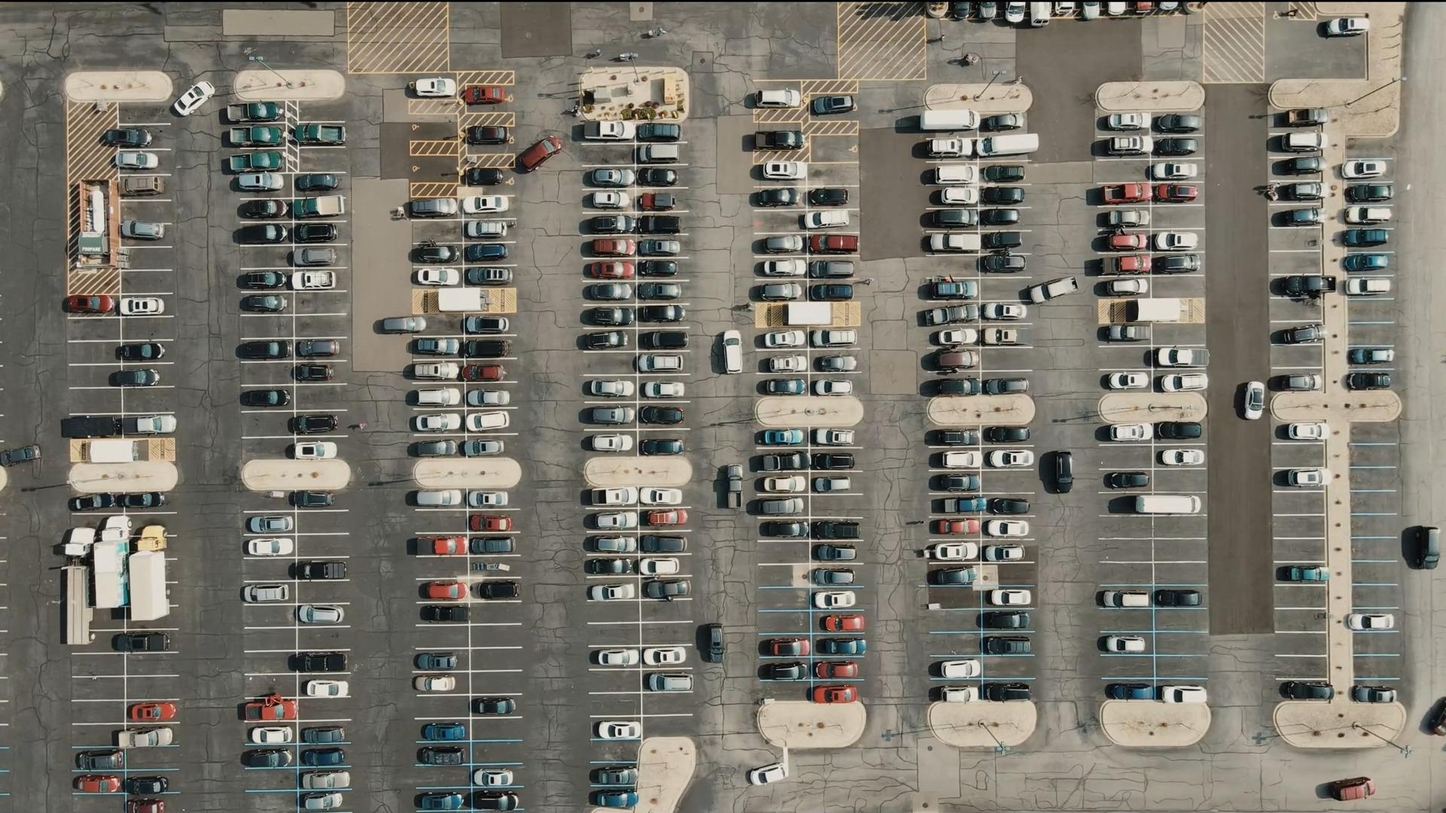free: (1098, 563, 1163, 594), (1343, 468, 1417, 489), (1271, 515, 1337, 538), (650, 713, 716, 736), (237, 630, 303, 653), (305, 704, 371, 727), (1098, 537, 1164, 560), (1156, 630, 1222, 653), (750, 565, 813, 589), (1340, 444, 1405, 467), (1352, 493, 1417, 516), (1354, 637, 1419, 660), (1275, 493, 1340, 516), (581, 602, 646, 625), (584, 671, 649, 694), (586, 693, 651, 716), (648, 691, 713, 714), (752, 588, 817, 611), (767, 603, 832, 626), (753, 543, 818, 566), (64, 679, 129, 702), (239, 676, 304, 699), (302, 623, 367, 646), (472, 671, 537, 694), (292, 288, 357, 311), (807, 159, 872, 182), (1150, 539, 1215, 562), (1138, 651, 1203, 674), (1275, 587, 1340, 610), (1261, 631, 1326, 654), (572, 349, 638, 371), (1351, 657, 1417, 679), (1347, 549, 1413, 571), (646, 618, 712, 640), (64, 701, 130, 723), (468, 652, 534, 674), (1098, 656, 1164, 678), (1344, 421, 1409, 443), (1355, 523, 1420, 545), (1278, 538, 1343, 560), (580, 621, 645, 643), (653, 595, 718, 617), (239, 610, 304, 632), (62, 654, 127, 676), (240, 648, 305, 670), (460, 598, 525, 620), (470, 628, 535, 650), (1155, 567, 1220, 589), (1096, 611, 1161, 633), (1262, 658, 1327, 680), (1160, 469, 1225, 491), (1360, 572, 1425, 594)
occupied: (515, 135, 564, 173), (1404, 525, 1442, 569), (171, 81, 215, 117), (1024, 276, 1075, 304), (980, 133, 1038, 157), (244, 696, 296, 722), (1135, 495, 1200, 515), (61, 416, 119, 438), (1045, 450, 1074, 493), (920, 108, 975, 130), (291, 652, 346, 673), (1278, 275, 1333, 296), (293, 123, 345, 145), (229, 126, 283, 147), (296, 195, 346, 217), (229, 102, 283, 122), (225, 153, 279, 173), (1280, 681, 1334, 701), (113, 633, 169, 652), (583, 121, 633, 142), (242, 749, 294, 769), (720, 329, 743, 374), (63, 295, 114, 315), (416, 791, 467, 811), (1322, 16, 1370, 37), (461, 194, 509, 215), (129, 701, 177, 722), (61, 527, 97, 555), (748, 761, 788, 786), (76, 750, 123, 771), (1104, 183, 1151, 204), (133, 524, 167, 553), (0, 444, 41, 468), (983, 683, 1032, 703), (760, 662, 809, 682), (296, 562, 347, 581), (927, 137, 973, 158), (474, 790, 520, 811), (1342, 159, 1390, 179), (418, 745, 466, 765), (1242, 380, 1266, 420), (302, 770, 350, 790), (409, 198, 459, 217), (238, 341, 288, 360), (927, 233, 977, 252), (756, 87, 801, 108), (105, 128, 152, 148), (413, 244, 460, 264), (242, 583, 289, 603), (761, 637, 808, 657), (1280, 325, 1329, 344), (241, 200, 287, 220), (128, 728, 174, 748), (811, 684, 857, 704), (111, 369, 162, 387), (1106, 683, 1157, 701), (756, 130, 804, 149), (1346, 184, 1394, 203), (117, 343, 165, 362), (1276, 182, 1324, 201), (1160, 373, 1208, 392), (73, 774, 121, 793), (413, 77, 456, 98), (812, 95, 855, 116), (1282, 130, 1325, 151), (466, 411, 509, 432), (1347, 371, 1392, 391), (124, 775, 169, 795), (72, 493, 122, 511), (1277, 156, 1324, 175), (291, 414, 338, 433), (241, 294, 288, 313), (297, 605, 344, 624), (591, 790, 638, 809), (240, 389, 289, 407), (1106, 136, 1150, 156), (1344, 253, 1390, 272), (1162, 685, 1208, 704), (248, 726, 294, 745), (592, 767, 638, 786), (295, 173, 343, 191), (1345, 206, 1393, 224), (1101, 590, 1149, 608), (240, 271, 288, 289), (98, 516, 134, 540), (121, 219, 164, 239), (121, 175, 164, 195), (643, 646, 686, 666), (300, 791, 343, 811), (702, 624, 724, 663), (637, 122, 682, 141), (293, 223, 338, 242), (595, 721, 640, 740), (422, 723, 467, 742), (1346, 277, 1391, 296), (302, 748, 347, 767), (936, 660, 981, 679), (1280, 565, 1330, 582), (1156, 114, 1203, 132), (1344, 228, 1391, 246), (1154, 255, 1201, 273), (135, 414, 177, 434), (1106, 112, 1150, 131), (1285, 422, 1329, 441), (305, 679, 349, 698), (1156, 231, 1200, 250), (292, 271, 336, 290), (415, 490, 464, 507), (1154, 138, 1200, 156), (464, 220, 510, 238), (461, 86, 507, 104), (1151, 162, 1197, 180), (1278, 208, 1324, 226), (1102, 635, 1148, 653), (1156, 347, 1202, 365), (290, 441, 336, 459), (986, 588, 1032, 606), (1103, 325, 1149, 343), (933, 685, 979, 703), (1104, 372, 1150, 390), (648, 673, 694, 691), (1106, 424, 1152, 442), (246, 538, 292, 556), (595, 648, 641, 666), (421, 605, 467, 623), (473, 768, 514, 788), (638, 144, 681, 163), (297, 339, 340, 358), (820, 614, 863, 633), (466, 126, 511, 144), (301, 727, 346, 745), (415, 653, 460, 671), (1352, 685, 1397, 703), (415, 268, 460, 286), (1106, 471, 1151, 489), (1159, 422, 1204, 440), (814, 661, 859, 679), (725, 463, 743, 508), (1348, 347, 1395, 364), (1156, 590, 1203, 607), (983, 112, 1025, 131), (122, 297, 164, 316), (589, 190, 631, 209), (1106, 231, 1148, 250), (1110, 255, 1152, 274), (116, 151, 160, 169), (1286, 108, 1330, 126), (292, 247, 336, 265), (1155, 184, 1199, 202), (1346, 613, 1392, 630), (479, 581, 520, 600), (424, 581, 465, 600), (762, 161, 805, 179), (473, 697, 516, 715), (468, 389, 511, 407), (247, 516, 292, 533), (1276, 374, 1321, 391), (465, 317, 510, 334), (467, 267, 512, 284), (1161, 449, 1206, 466), (1283, 469, 1325, 487), (467, 490, 509, 508), (463, 439, 505, 457), (465, 244, 509, 261), (291, 491, 335, 508), (379, 317, 425, 333), (120, 492, 166, 508), (1106, 210, 1149, 227), (466, 168, 509, 185), (1104, 279, 1147, 296), (642, 381, 685, 398), (470, 538, 515, 554), (294, 364, 334, 382), (414, 675, 456, 692), (429, 537, 468, 555), (471, 515, 512, 532), (126, 797, 166, 813), (1030, 1, 1053, 26), (1005, 1, 1027, 23), (952, 1, 973, 20), (1054, 1, 1077, 17), (978, 1, 997, 20), (1082, 1, 1101, 20), (1106, 1, 1128, 17), (1134, 1, 1156, 16), (1158, 1, 1181, 14)
